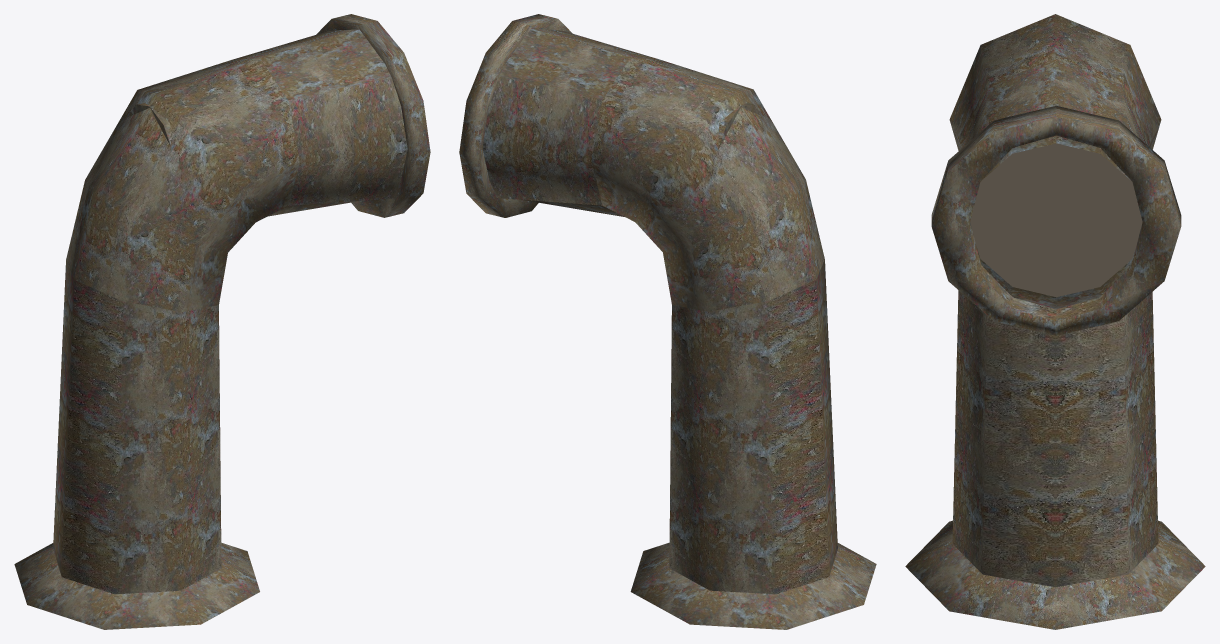
The model's file is objects_pipe_4.glb.
3 renders of one model, left to right at view 1: azimuth 30°, elevation 25°; view 2: azimuth 150°, elevation 25°; view 3: azimuth 270°, elevation 25°, orthographic. The views are drawn at different scales.
Visible parts, largest first — view 1: pipe_4; view 2: pipe_4; view 3: pipe_4.
Part boxes in pixels (x1,y1,x2,y2): pipe_4: [14, 14, 430, 629]; pipe_4: [459, 14, 876, 629]; pipe_4: [905, 14, 1205, 629].
Size of the model in its own units: 8.65 by 11.63 by 5.38.
1 material, 1 textured.
